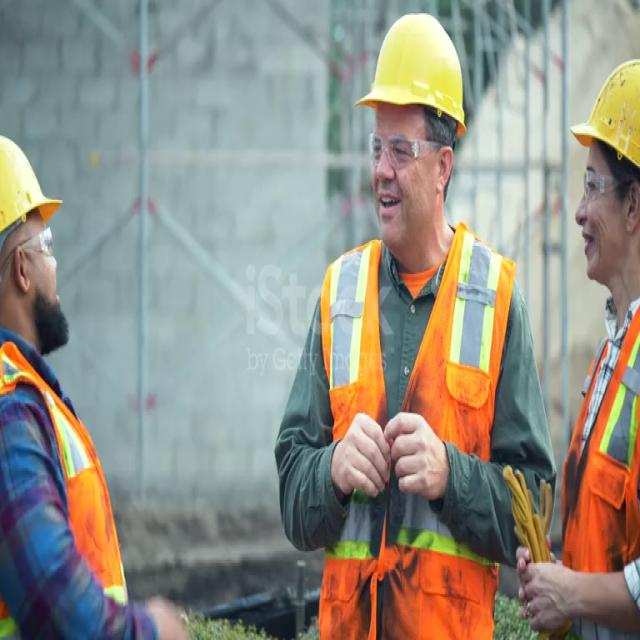capacete: (348, 13, 482, 146), (565, 61, 640, 188), (3, 122, 80, 235)
